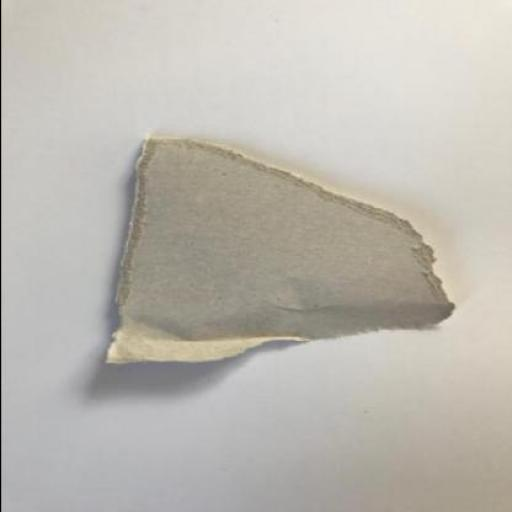cardboard: (103, 136, 457, 365)
